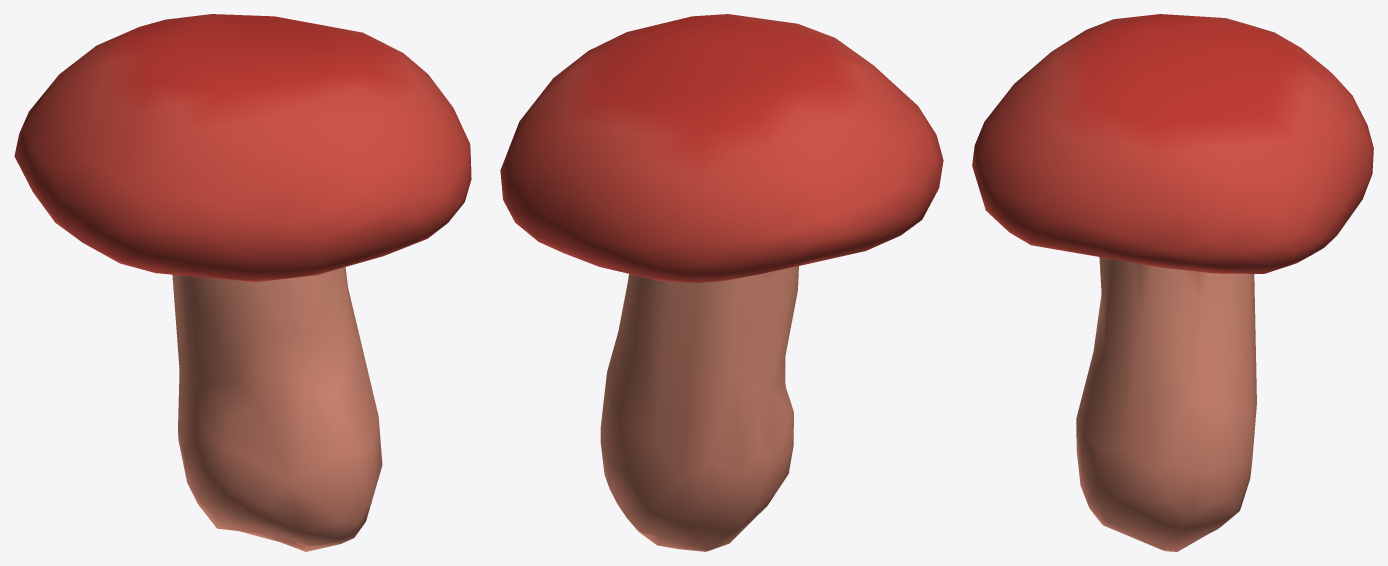
The model's file is Mushroom3.fbx.
The picture shows the model from 3 angles, left to right: view 1: azimuth 30°, elevation 25°; view 2: azimuth 150°, elevation 25°; view 3: azimuth 270°, elevation 25°; orthographic projection. The views are drawn at different scales.
Visible parts, largest first — view 1: mushroom_15; view 2: mushroom_15; view 3: mushroom_15.
Boxes of the visible parts, x1,y1,x2,y2 form: mushroom_15: (14, 14, 471, 551); mushroom_15: (500, 14, 943, 551); mushroom_15: (972, 14, 1373, 551).
Bounding box in the file's own units: 74.04 × 94.47 × 72.63.
